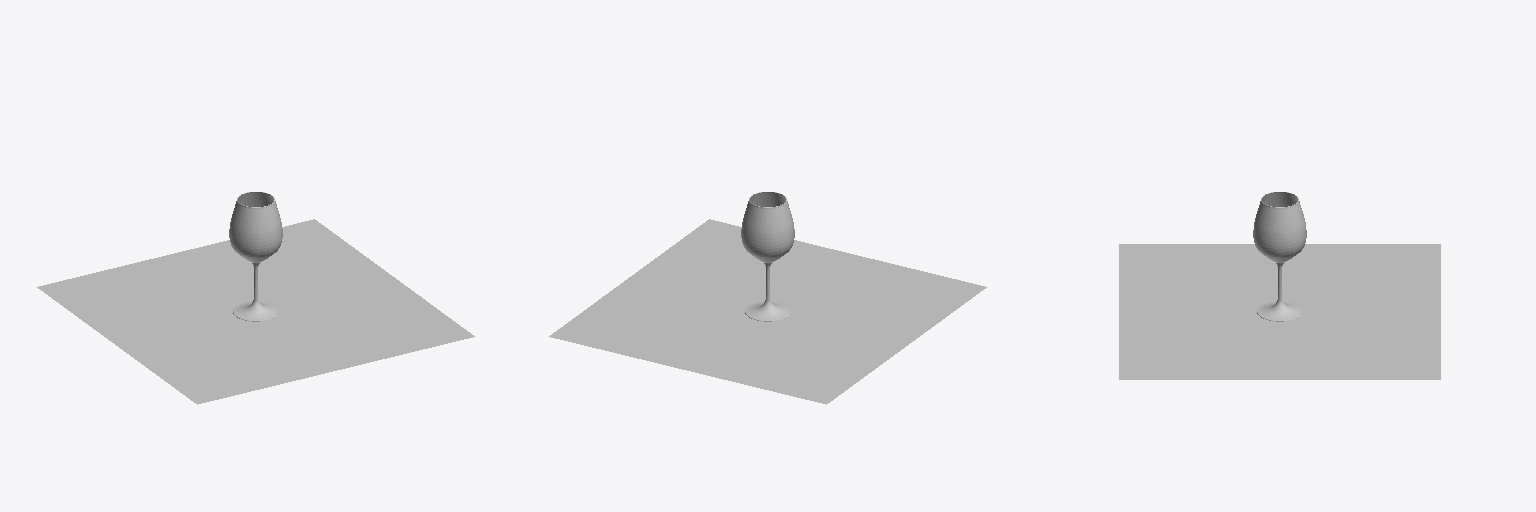
Rendered from wineglass.obj.
3 views of the same model, side by side, from view 1: azimuth 30°, elevation 25°; view 2: azimuth 150°, elevation 25°; view 3: azimuth 270°, elevation 25° (orthographic).
Parts seen in each view (by area): view 1: Plane, Cylinder; view 2: Plane, Cylinder; view 3: Plane, Cylinder.
Boxes of the visible parts, x1=… form: Plane: x1=37, y1=219, x2=474, y2=404; Cylinder: x1=229, y1=192, x2=282, y2=321; Plane: x1=549, y1=219, x2=986, y2=404; Cylinder: x1=741, y1=192, x2=794, y2=321; Plane: x1=1119, y1=244, x2=1440, y2=379; Cylinder: x1=1253, y1=192, x2=1306, y2=321.
Size of the model in its own units: 28.27 by 10.97 by 28.27.